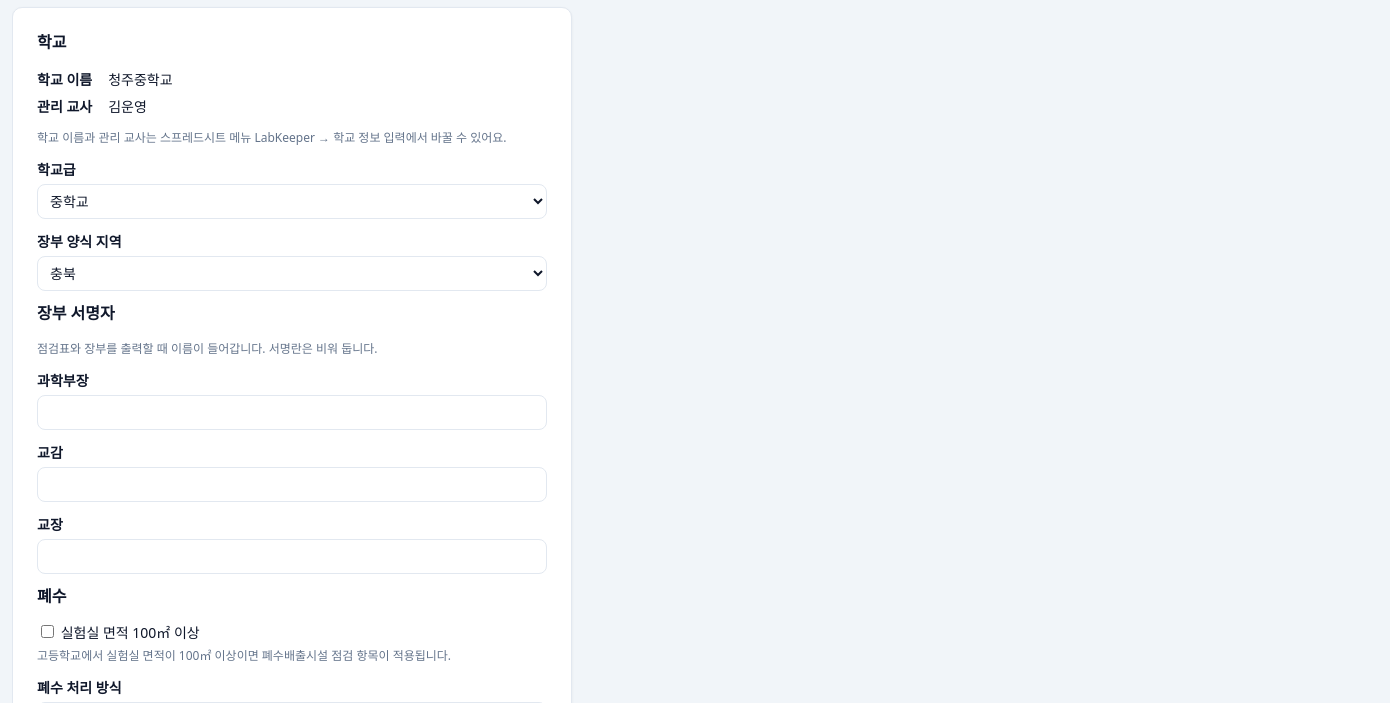
Test: SettingsPage › shows saved settings and sends only what changed
Expected: the dropdown labelled "장부 양식 지역" shows "충북", [37, 256, 547, 291]
Select "고등학교" in the dropdown labelled "학교급" at (292, 201), box [37, 184, 547, 219]
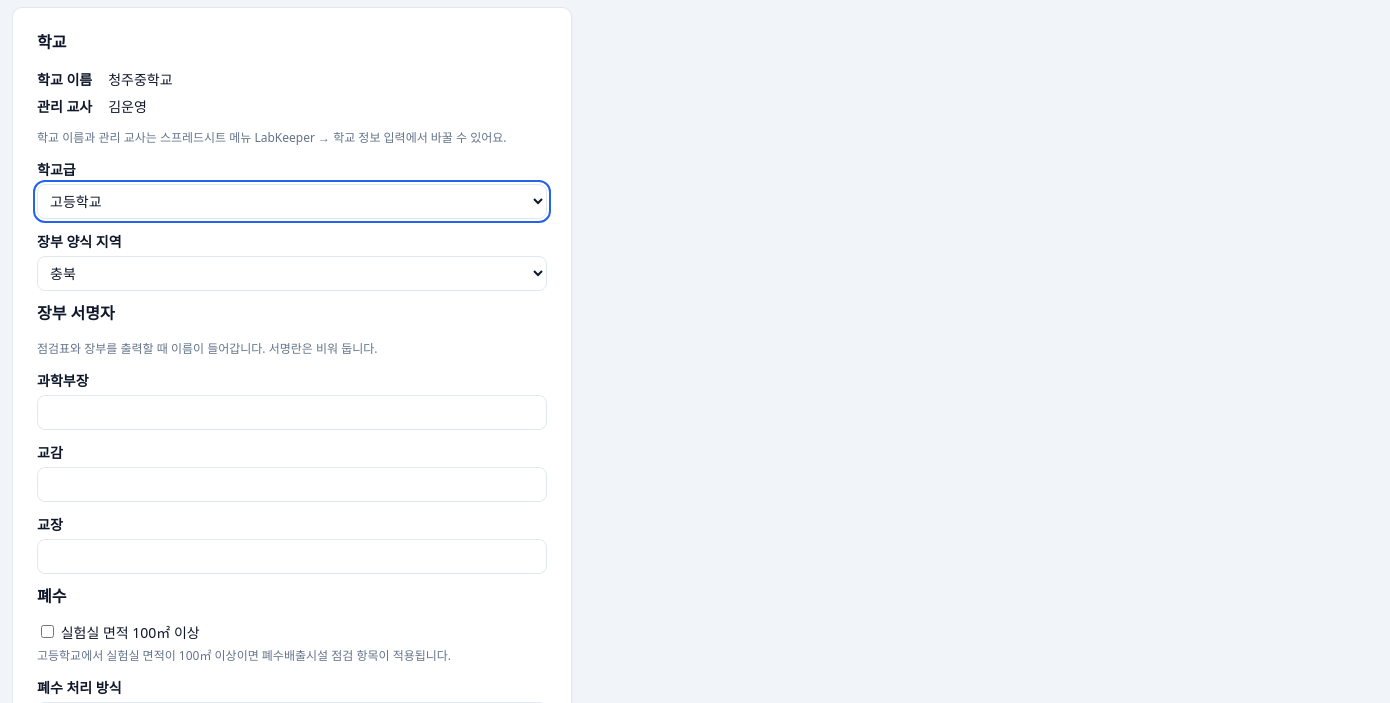
Type "박부장" into the field labelled "과학부장" at (292, 412), box [37, 395, 547, 430]
(page scrolled)
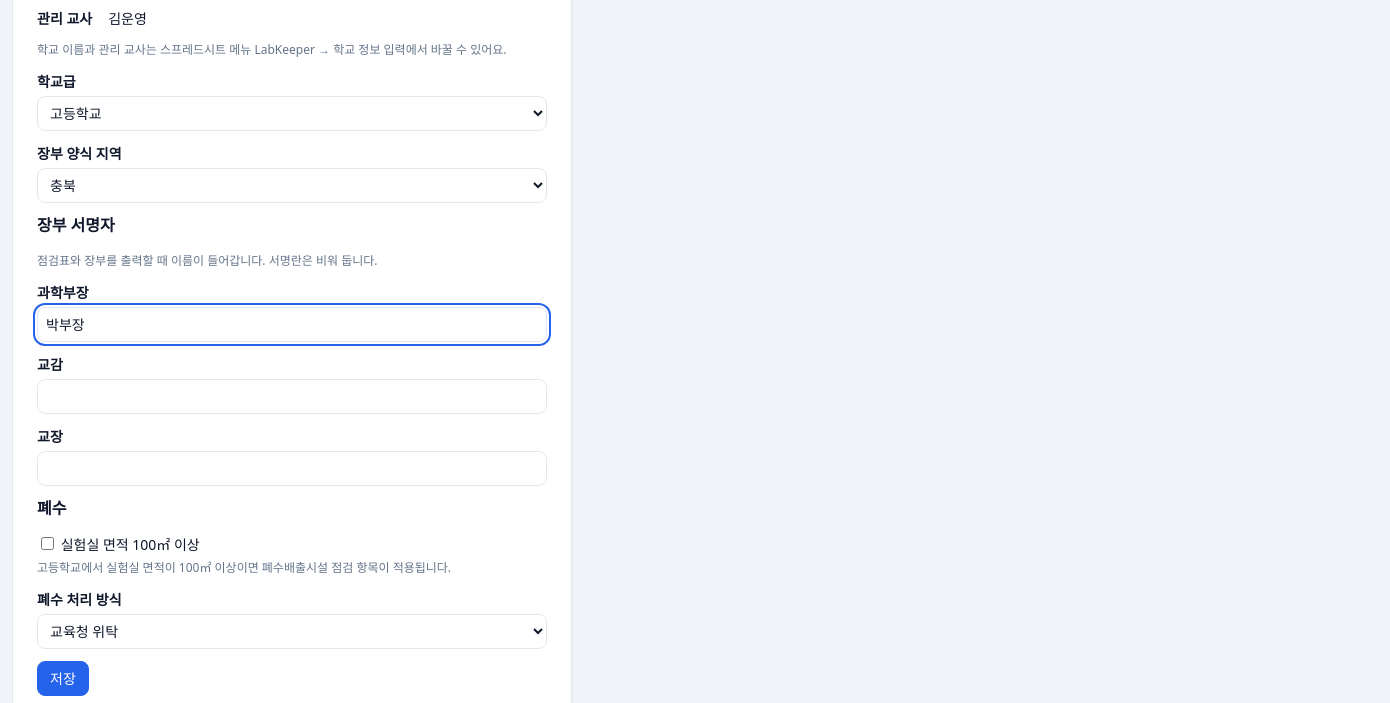
Click the button "저장" at (63, 679), box [37, 661, 89, 696]
(page scrolled)
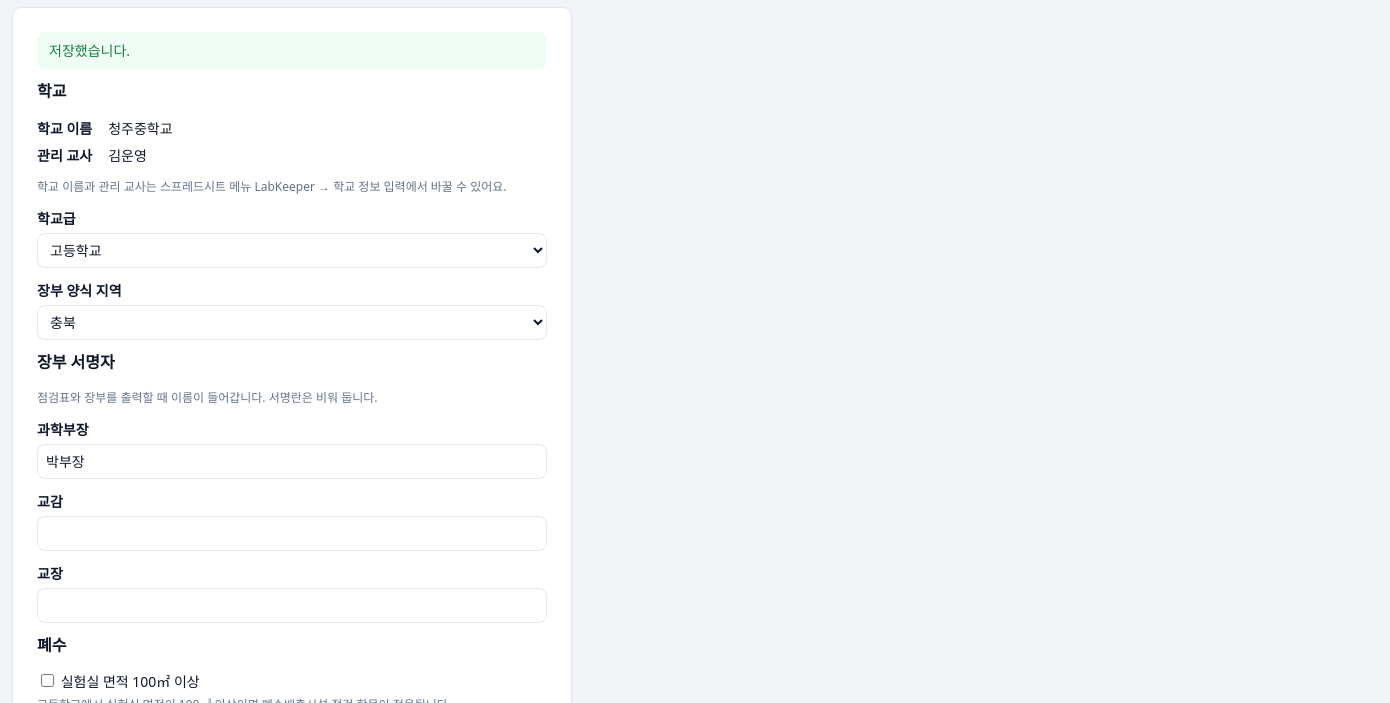
Expected: the message shows "저장했습니다", [49, 41, 130, 60]
